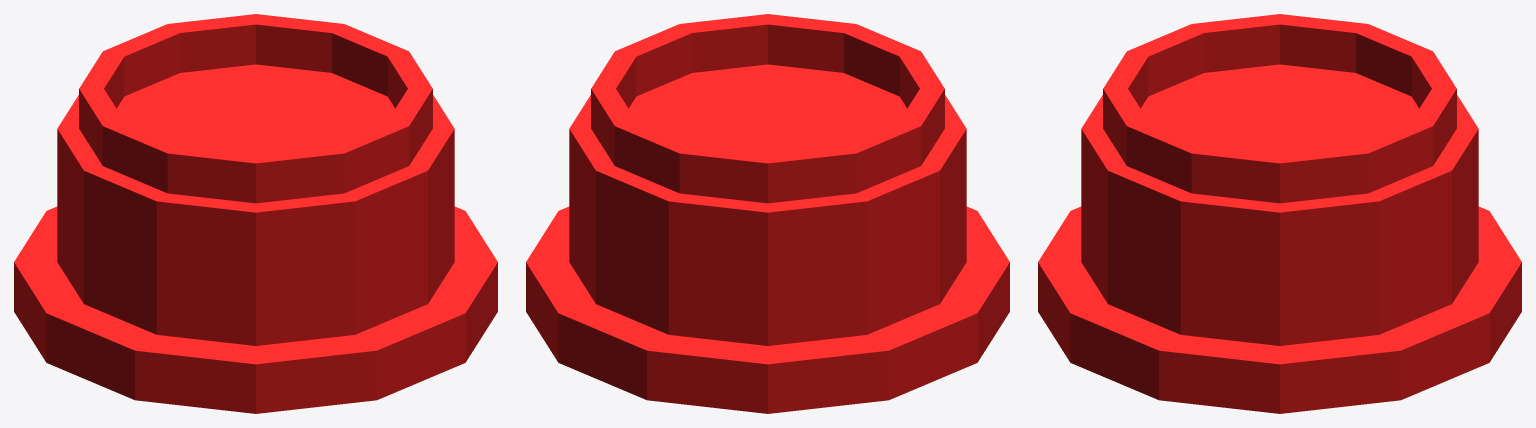
3 views of the same model, side by side, from view 1: azimuth 30°, elevation 25°; view 2: azimuth 150°, elevation 25°; view 3: azimuth 270°, elevation 25° (orthographic).
Parts seen in each view (by area): view 1: メッシュ, メッシュ_1; view 2: メッシュ, メッシュ_1; view 3: メッシュ, メッシュ_1.
Part boxes in pixels (<box>): メッシュ: <box>14,24,497,413</box>; メッシュ_1: <box>14,14,497,364</box>; メッシュ: <box>526,24,1009,413</box>; メッシュ_1: <box>526,14,1009,364</box>; メッシュ: <box>1038,24,1521,413</box>; メッシュ_1: <box>1038,14,1521,364</box>.
Bounding box in the file's own units: 2.57 × 1.31 × 2.57.
